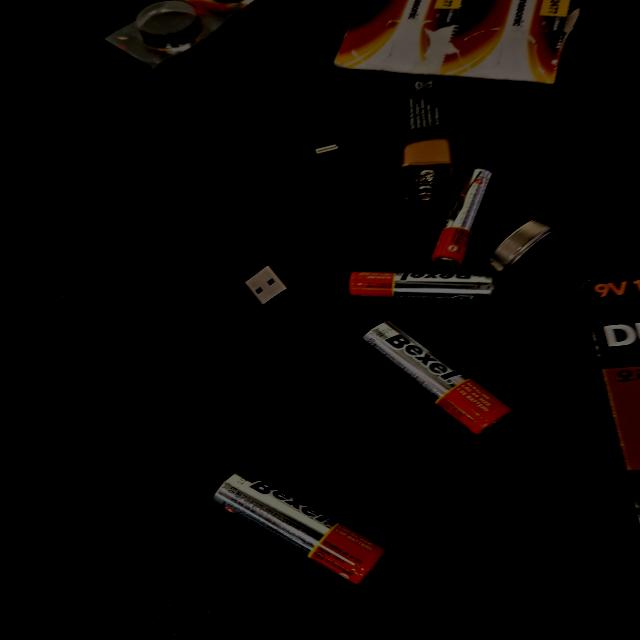9V: (375, 294, 537, 340)
AA: (68, 268, 215, 382)
AAA: (282, 322, 414, 368), (240, 260, 276, 372)
COIN: (272, 364, 350, 420)
